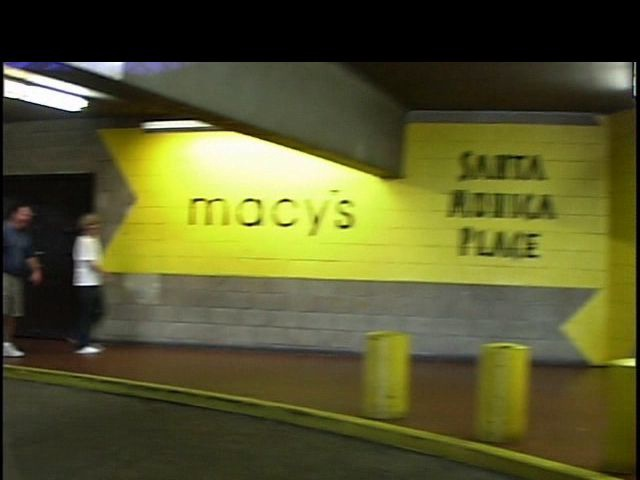person: (53, 204, 128, 369)
